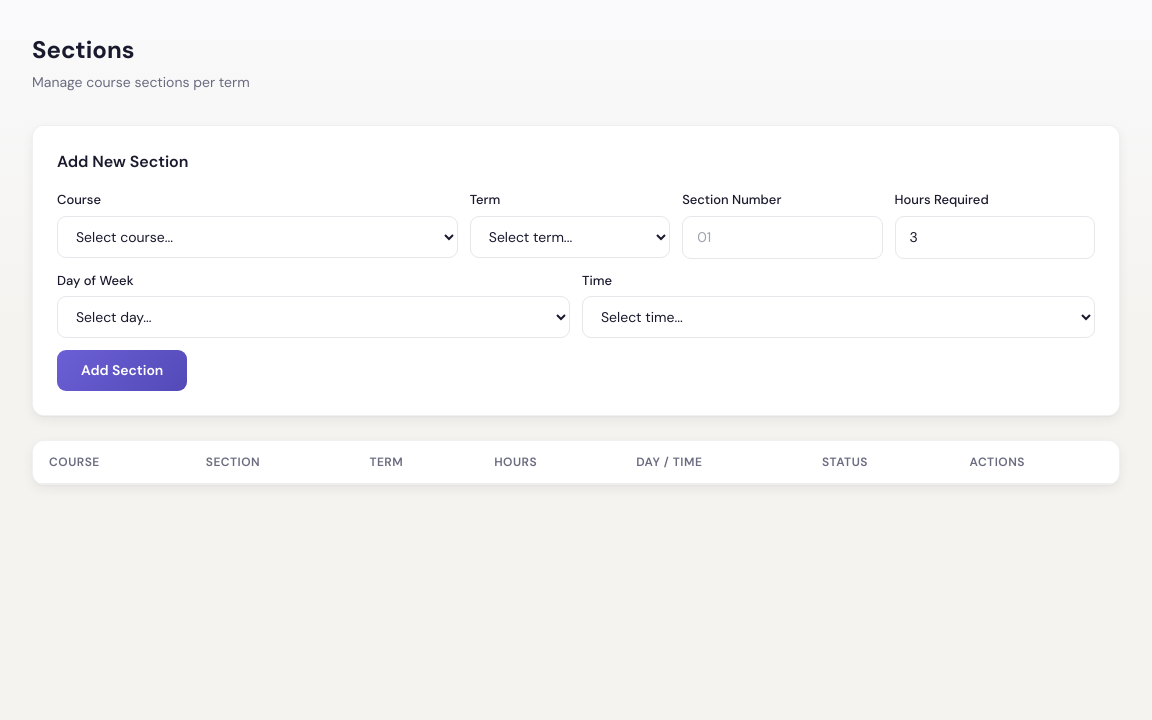
Test: AdminSections › adds a section with status unassigned and refreshes the list
The width and height of the screenshot is (1152, 720).
Select "CS101 — Intro to CS" in the dropdown labelled "Course" at x=257, y=236, box [57,216,458,258]
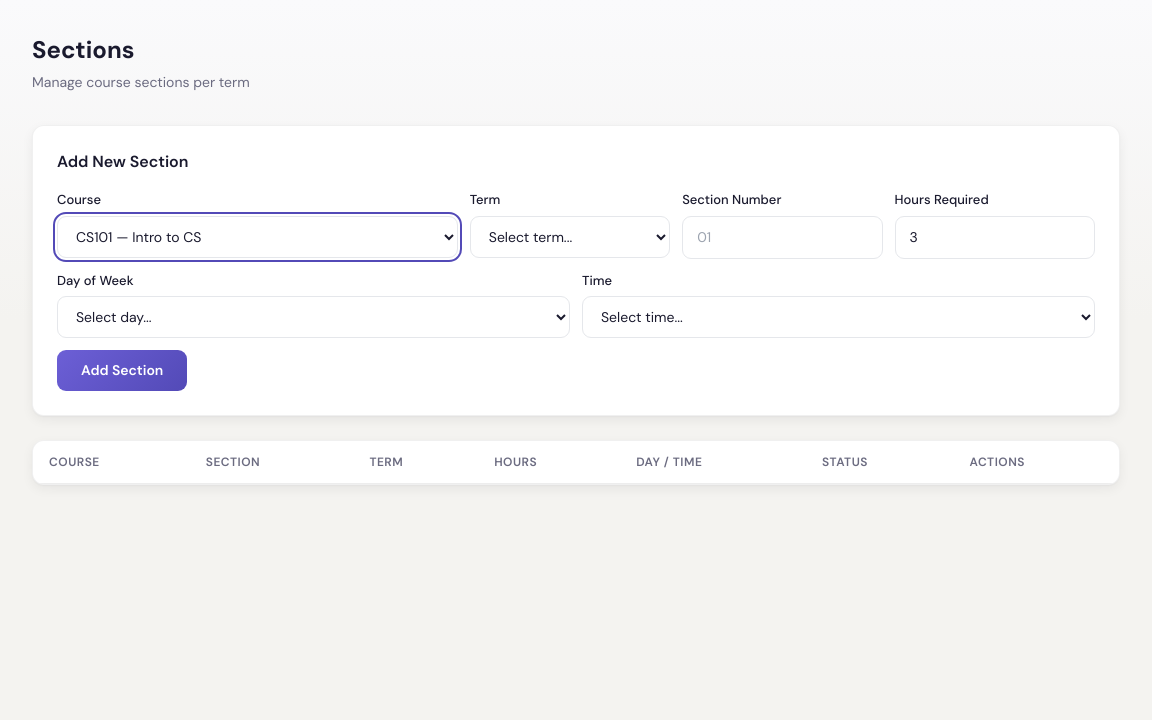
Select "Winter 2026" in the dropdown labelled "Term" at x=570, y=236, box [470,216,670,258]
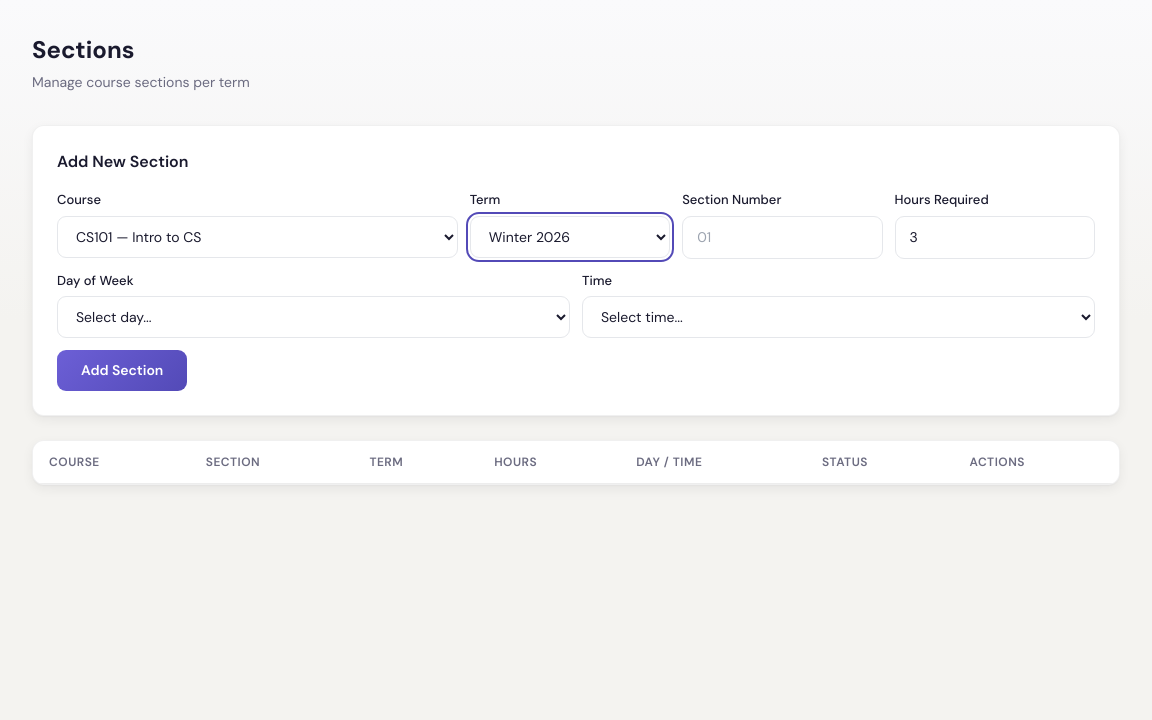
Type "02" into the field with placeholder "01" at x=782, y=237, box [682,216,883,258]
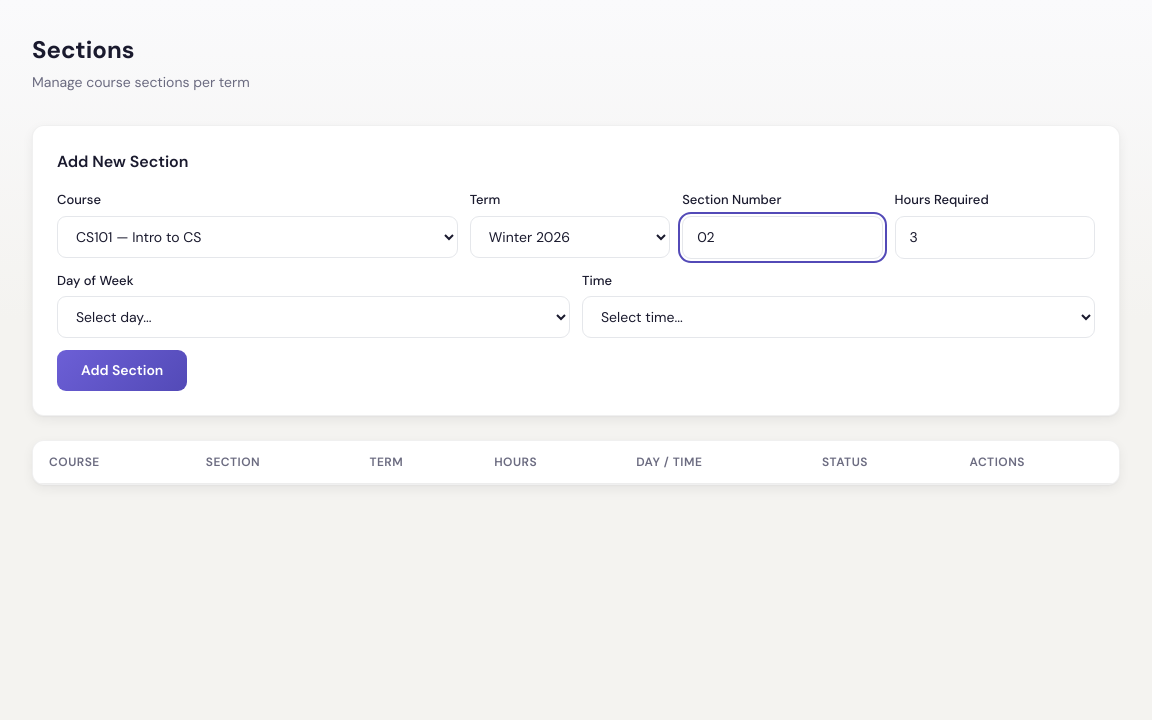
Select "Tuesday" in the dropdown labelled "Day of Week" at x=314, y=317, box [57,296,570,338]
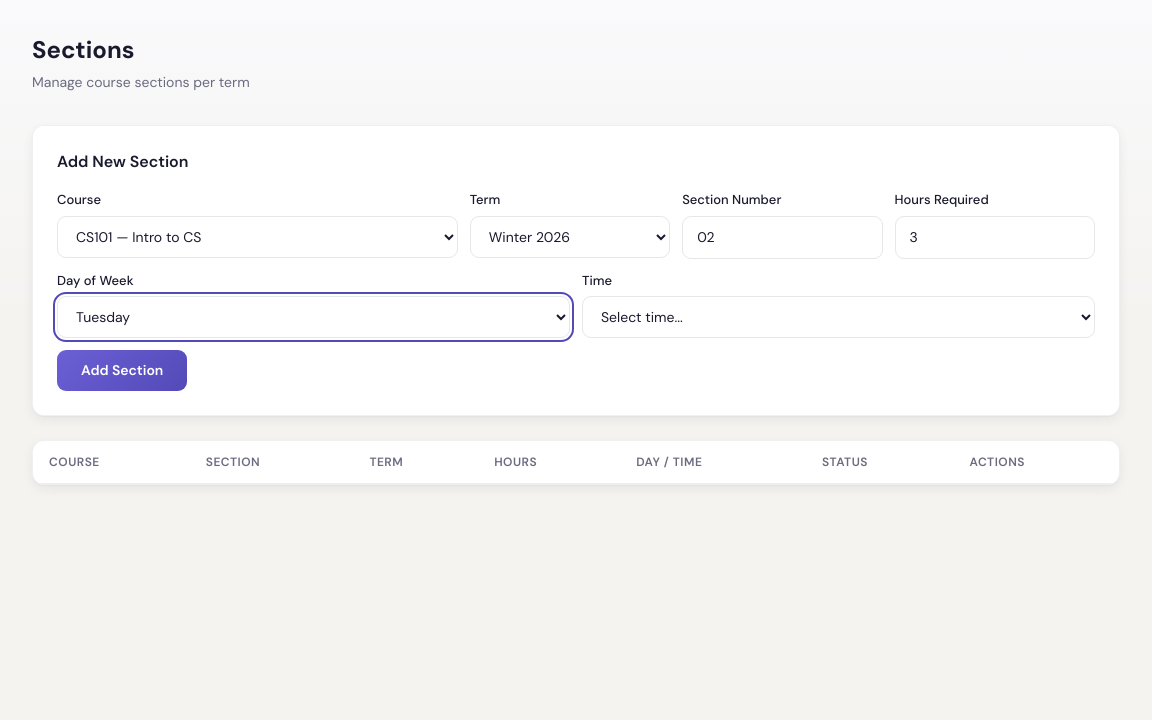
Select "10:00 AM" in the dropdown labelled "Time" at x=838, y=317, box [582,296,1095,338]
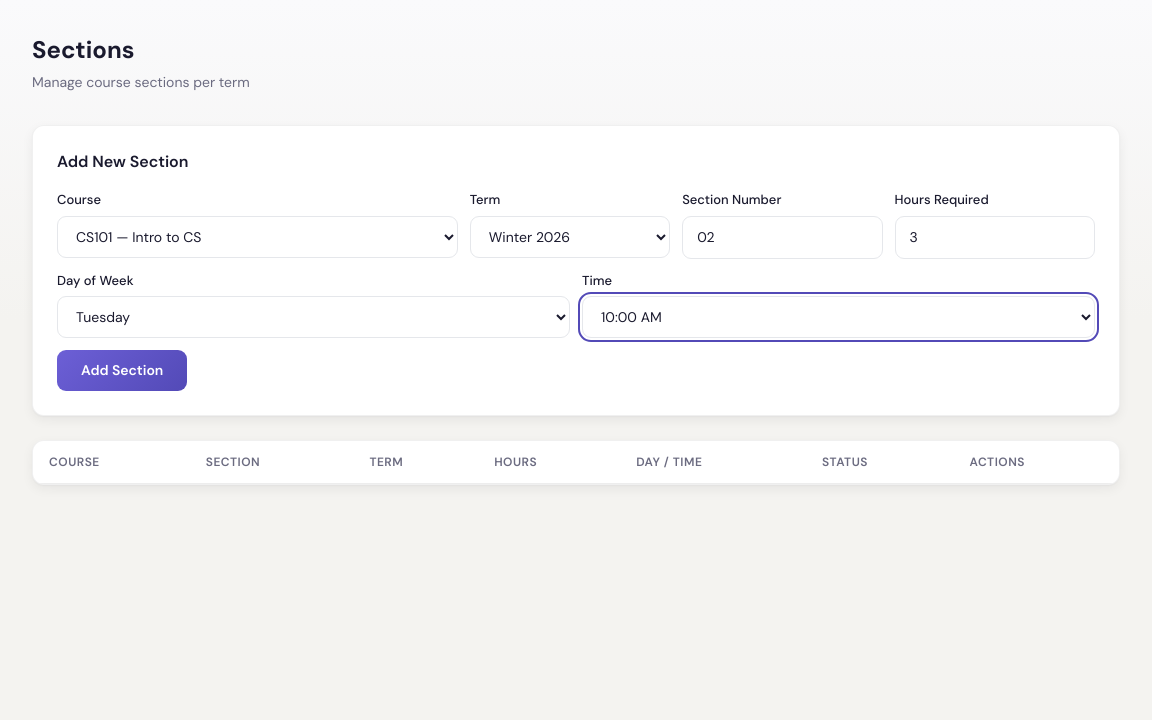
Click the button "Add Section" at x=122, y=370, box [57,350,187,391]
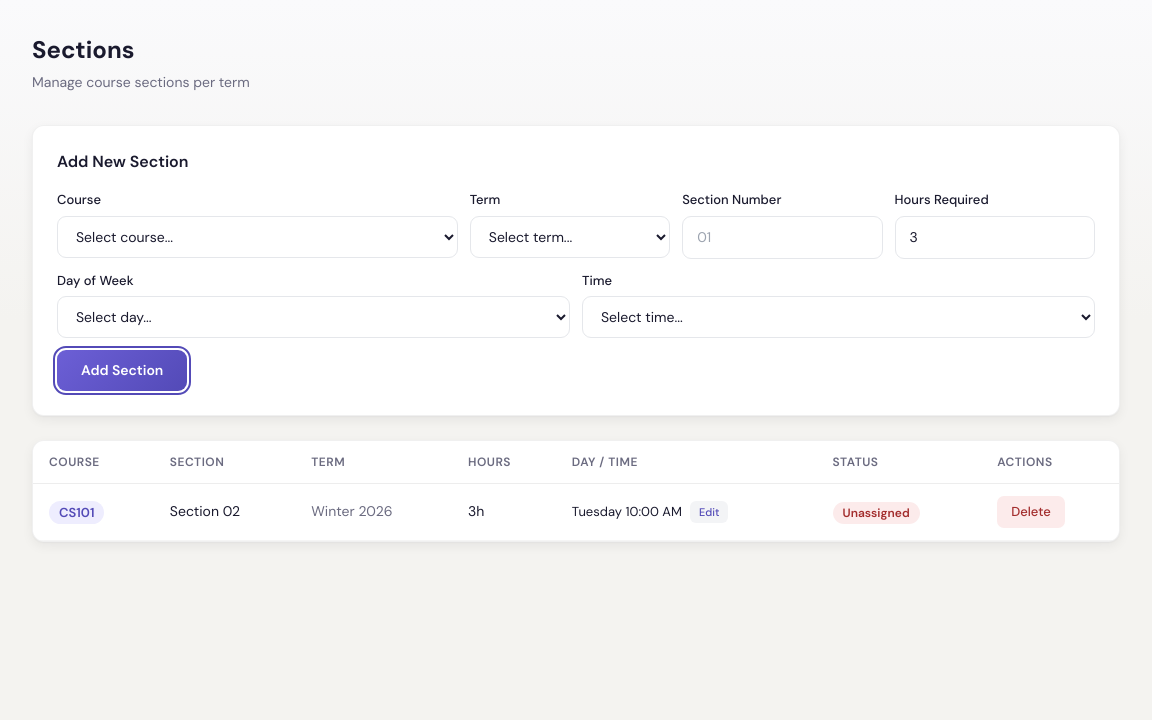
Now the text "Section 02" is shown, box [154,484,295,540]
